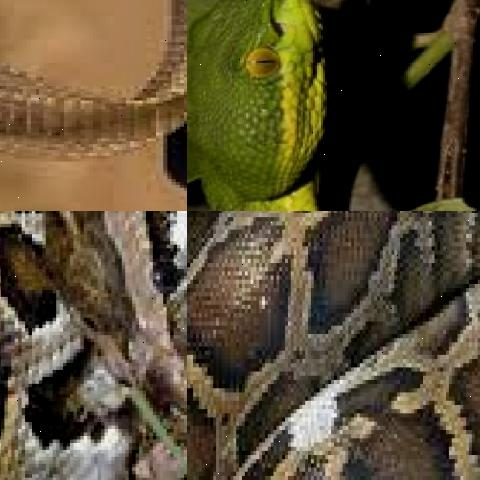snake: (187, 211, 480, 480), (187, 0, 480, 211), (0, 211, 187, 480), (0, 0, 187, 211)
